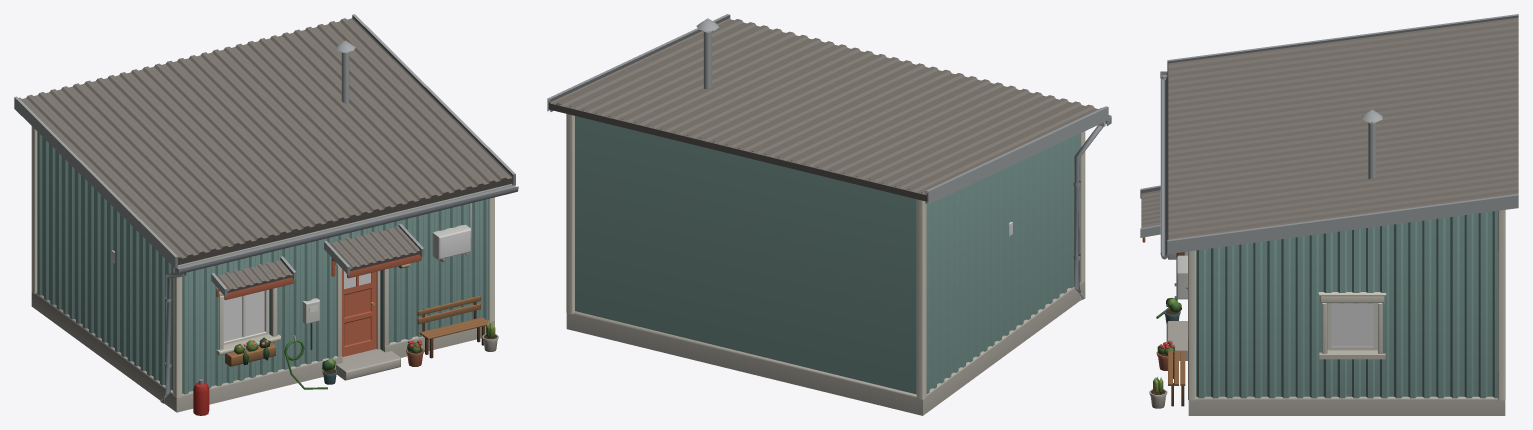
The model's file is Bungalow.fbx.
3 renders of one model, left to right at view 1: azimuth 30°, elevation 25°; view 2: azimuth 150°, elevation 25°; view 3: azimuth 270°, elevation 25°, orthographic. The views are drawn at different scales.
Parts seen in each view (by area): view 1: Bungalow; view 2: Bungalow; view 3: Bungalow.
Part boxes in pixels (box(x1,y1,x2,y2)): Bungalow: box(14, 14, 518, 415); Bungalow: box(547, 14, 1111, 415); Bungalow: box(1140, 14, 1518, 415).
Size of the model in its own units: 7.62 by 5.32 by 6.72.
